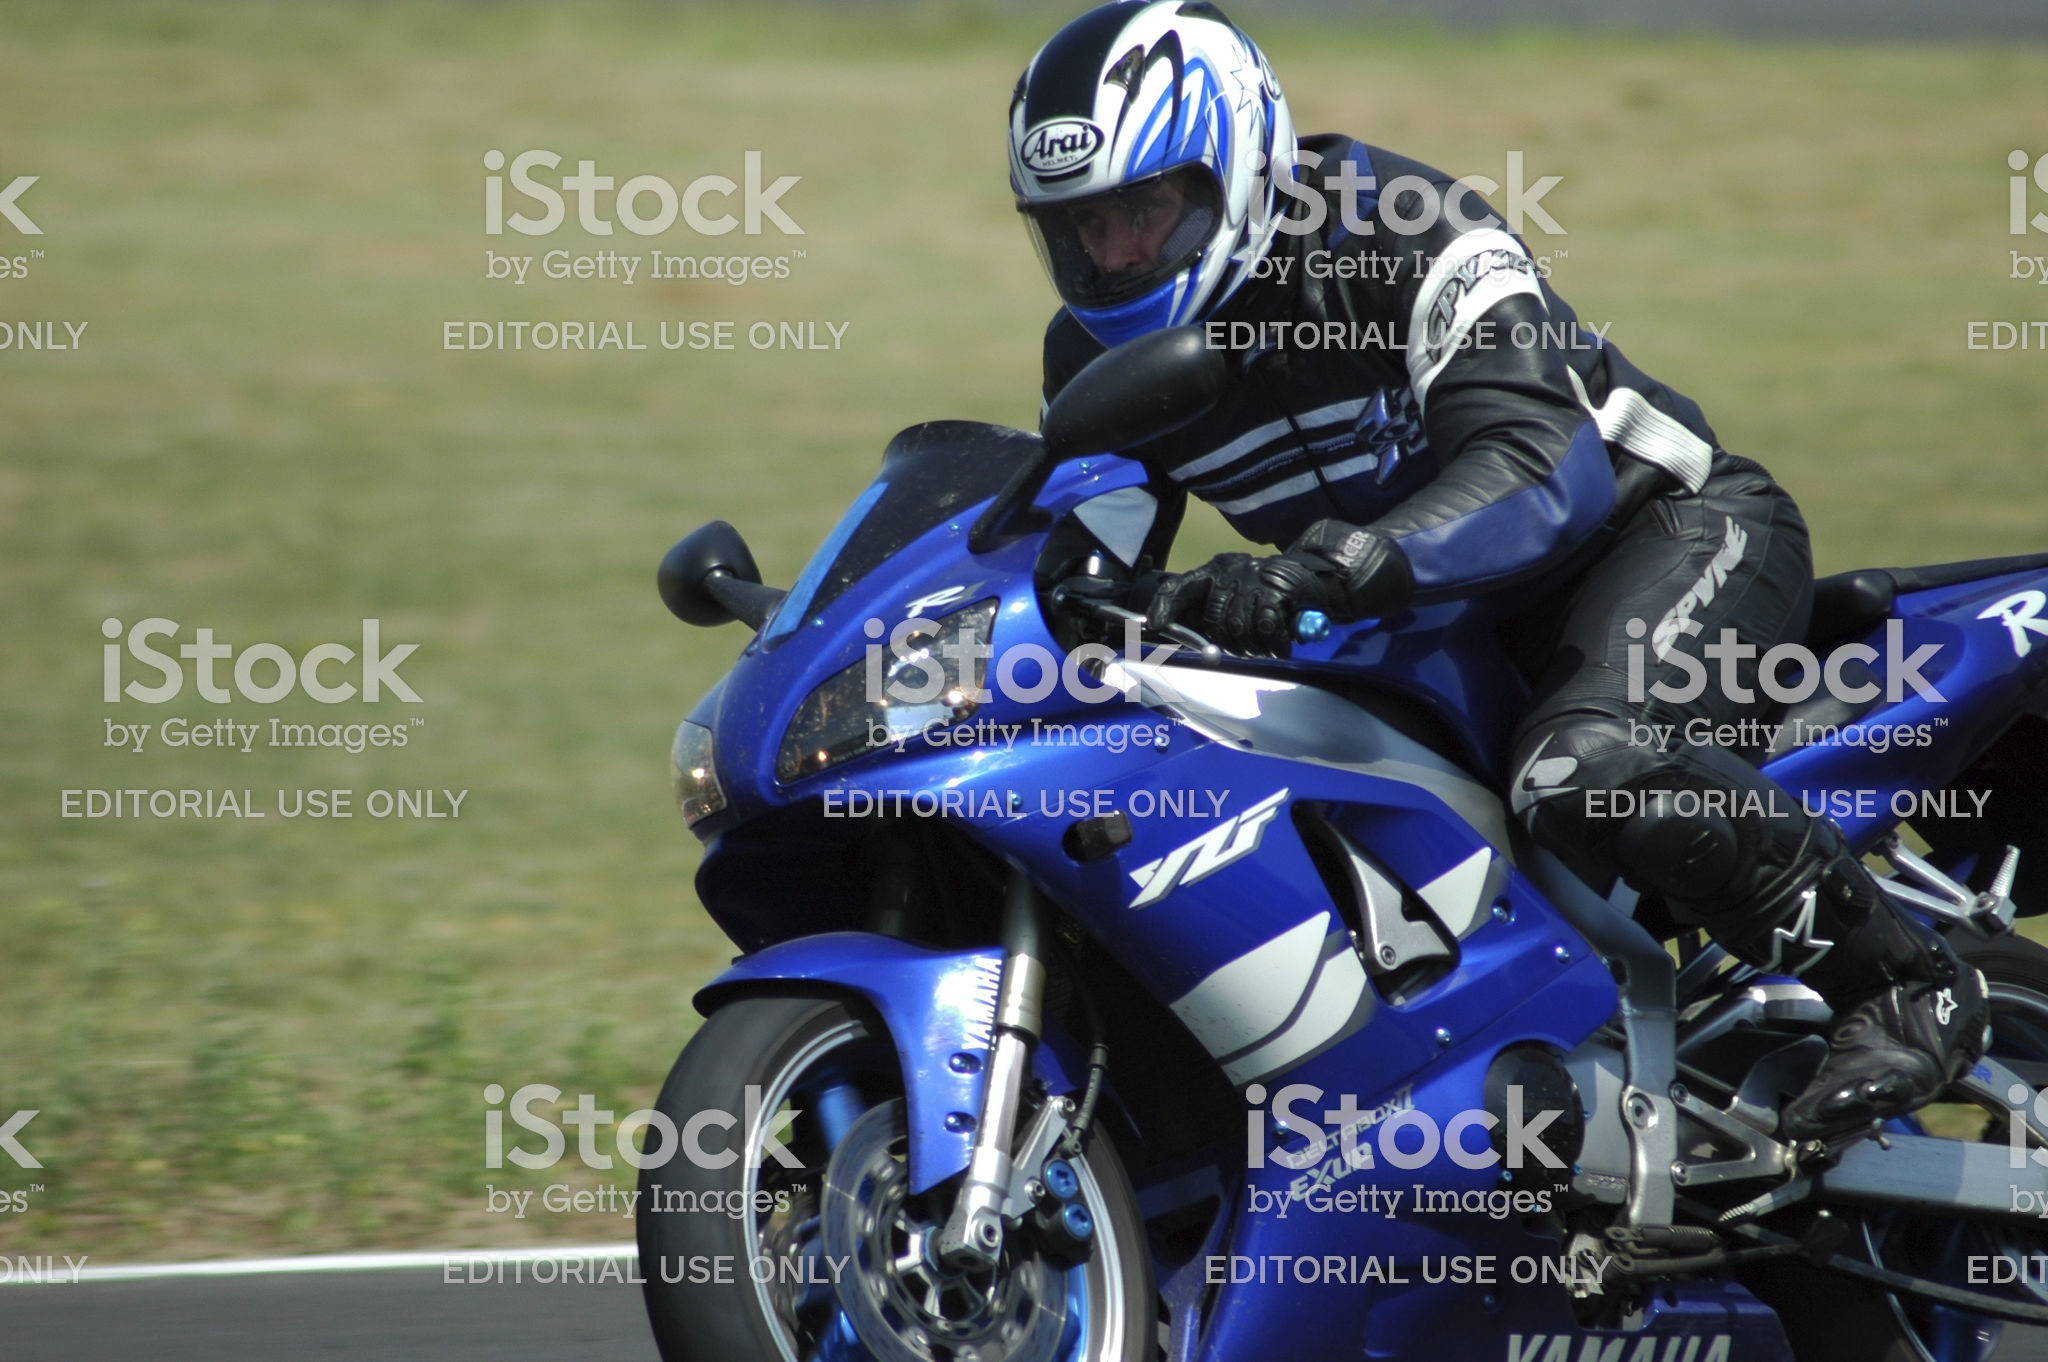helmet: (975, 23, 1326, 319)
